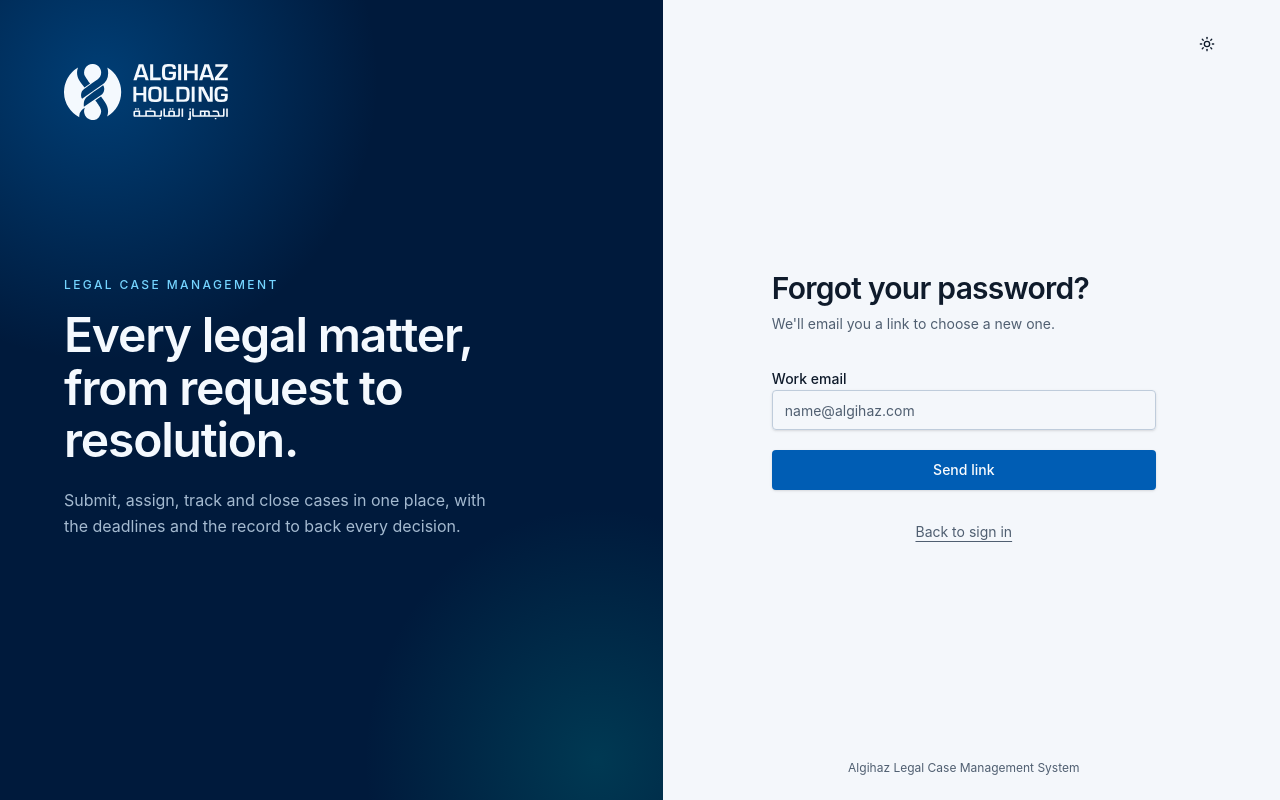
Test case: ForgotPasswordPage › sends the address and then says a link is on its way, without confirming the account exists
The width and height of the screenshot is (1280, 800).
Expected: the heading "Forgot your password?" is shown, [772,270,1089,306]
Type "someone@example.com" into the field labelled "Work email" at (964, 410), box [772,390,1156,430]
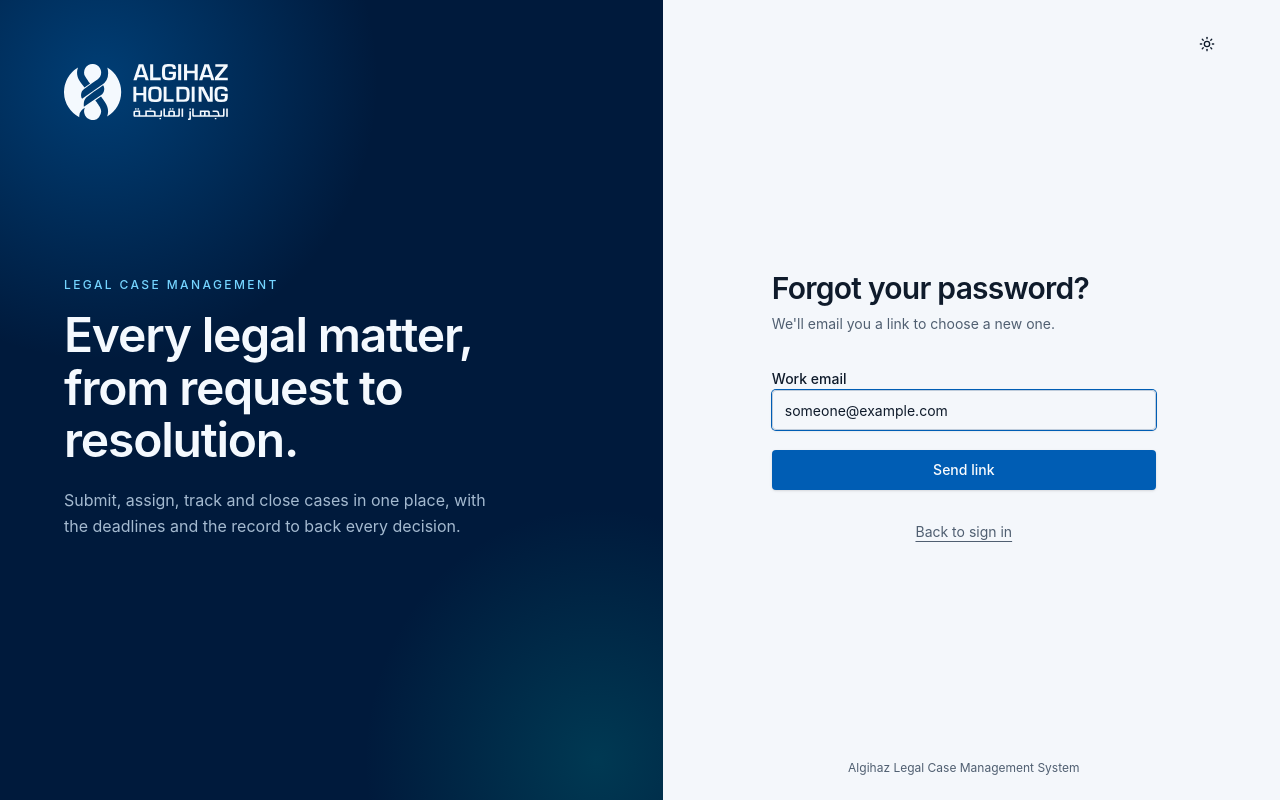
Click the button "Send link" at (964, 470), box [772,450,1156,490]
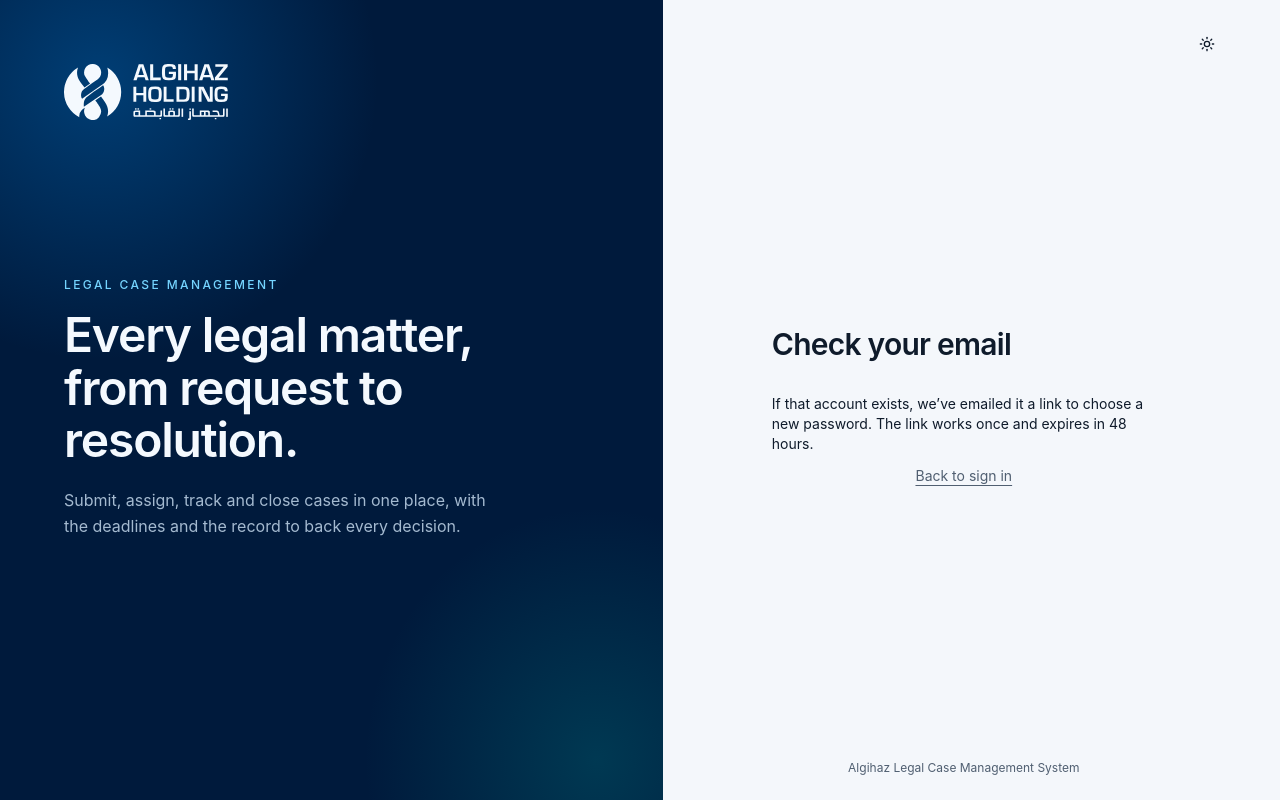
Now the text "48 hours" is shown, box [772,395,1143,452]
Now the label labelled "Work email" is gone
